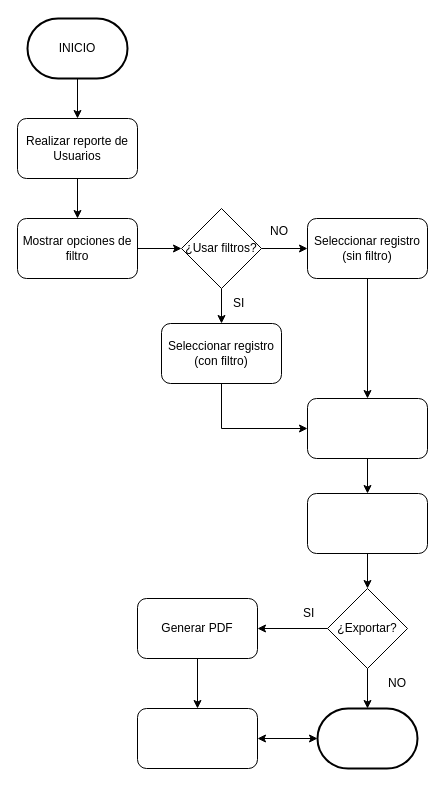
Image size: 445x786. Some labels were removed from this diagram. Each missing label, with the centre of its shape:
Descargar reporte: (x=197, y=738)
FIN: (x=367, y=738)
Generar reporte: (x=367, y=428)
Mostrar reporte: (x=367, y=523)
